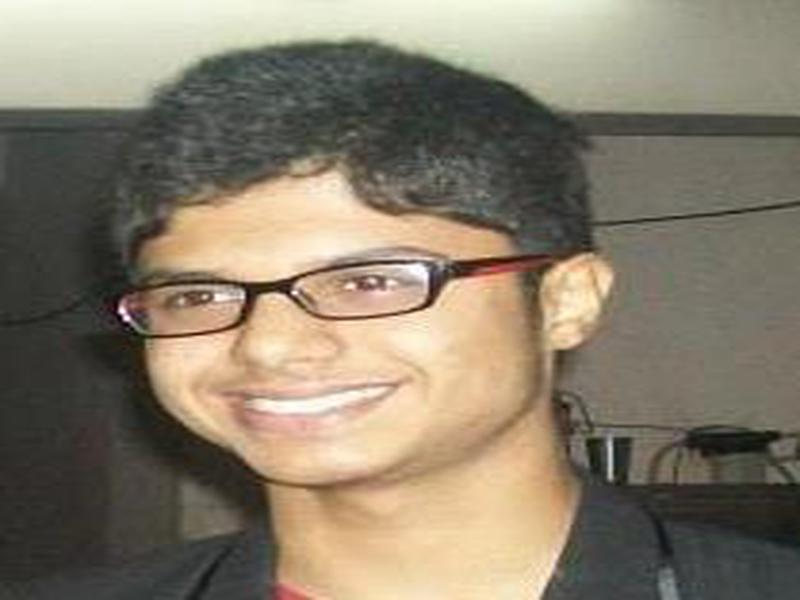without_mask: (116, 170, 523, 497)
